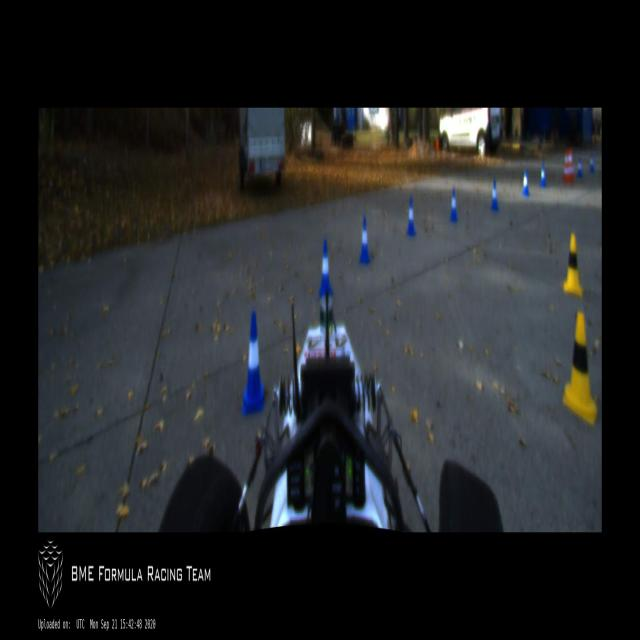blue_cone: (243, 310, 264, 412), (319, 239, 332, 296), (360, 216, 370, 264), (407, 197, 415, 236), (450, 191, 458, 222), (491, 180, 498, 211), (522, 170, 529, 196), (540, 163, 546, 186), (578, 157, 582, 177), (590, 156, 594, 172)
large_orange_cone: (562, 148, 570, 182), (568, 146, 574, 181)
yellow_cone: (563, 312, 597, 423), (564, 233, 581, 294)
